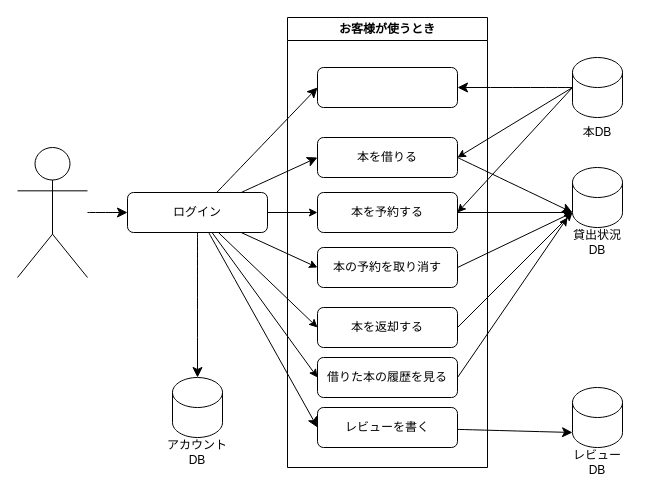
This 655x495 diagram has some shape labels left out. The centre of each missing label's shape, as x and y in pixels:
"お客様" goes at point (52, 212).
"本の検索" goes at point (387, 87).
